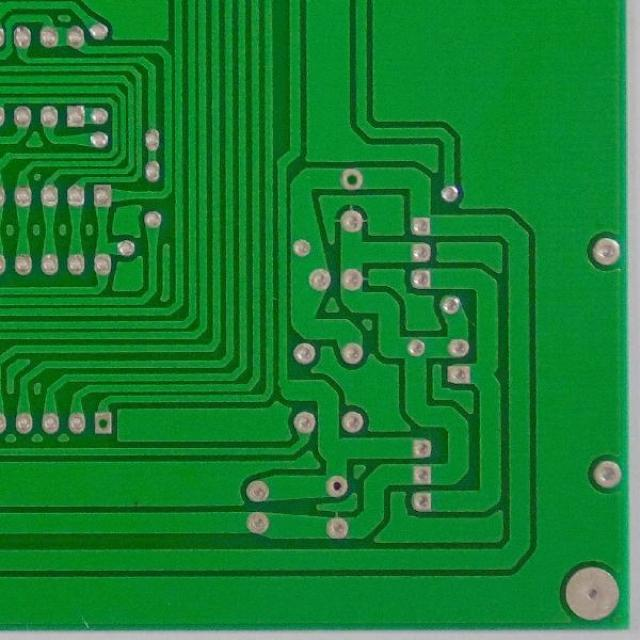missing_hole: (339, 165, 366, 190), (93, 411, 116, 437)
